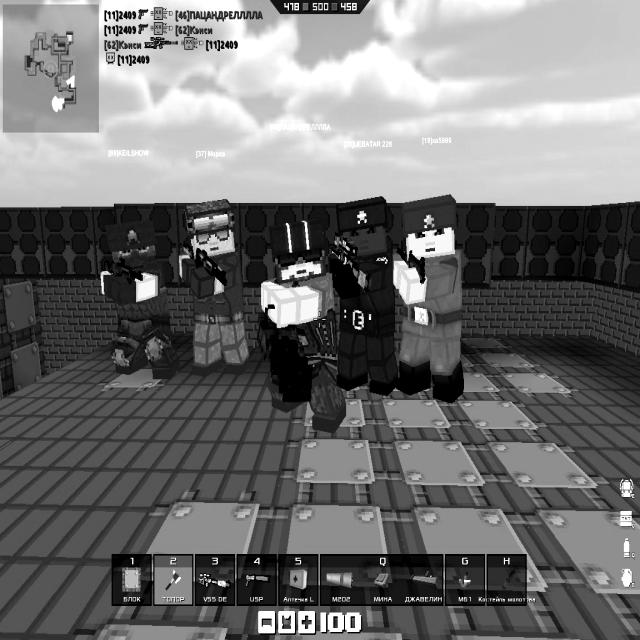Head: (272, 220, 328, 282), (337, 196, 391, 258), (402, 198, 458, 255), (185, 201, 239, 260), (102, 220, 160, 272)
Player: (254, 210, 347, 434), (393, 190, 470, 407), (328, 186, 397, 398), (100, 205, 178, 387), (178, 194, 250, 378)
